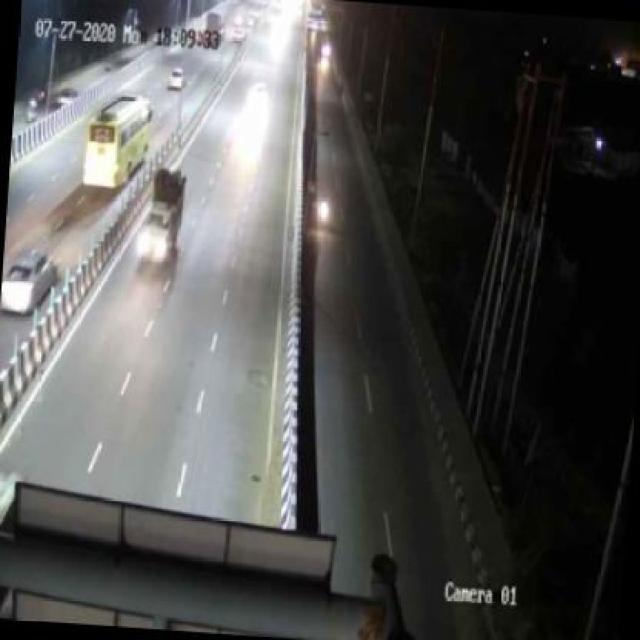car: (134, 169, 197, 265)
